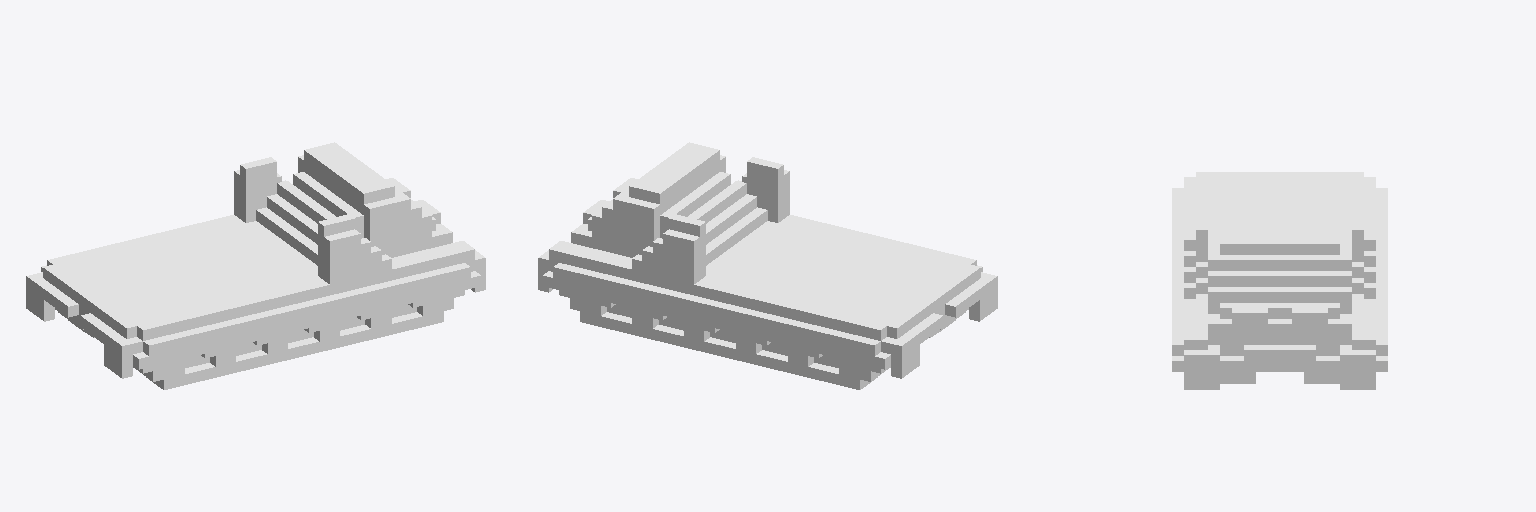
The model's file is SSMLauncherBody.obj.
The picture shows the model from 3 angles: view 1: azimuth 30°, elevation 25°; view 2: azimuth 150°, elevation 25°; view 3: azimuth 270°, elevation 25°; orthographic projection.
Parts seen in each view (by area): view 1: object 1; view 2: object 1; view 3: object 1.
Part boxes in pixels (x1,y1,x2,y2): object 1: (26, 142, 485, 389); object 1: (538, 142, 997, 389); object 1: (1172, 172, 1387, 389).
Bounding box in the file's own units: 3.5 × 1.2 × 1.8.